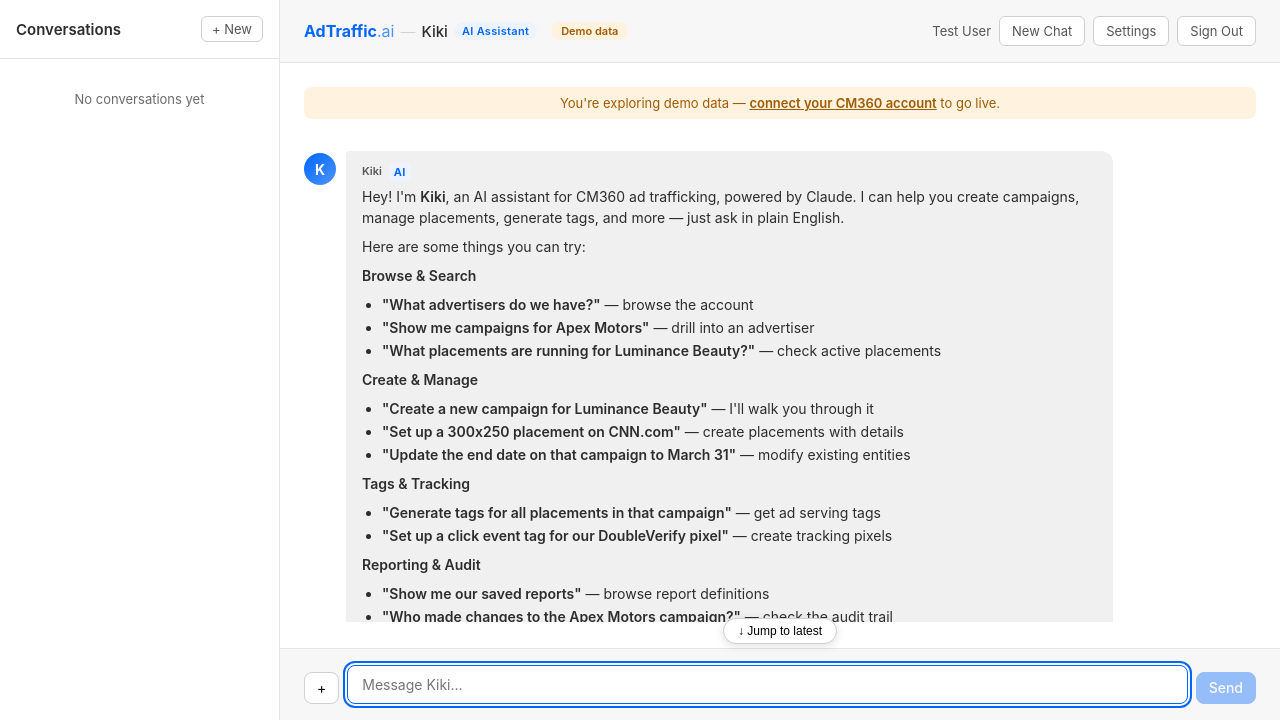
Test: Chat SSE streaming › handles malformed JSON in SSE data line gracefully
Type "Hello" into the text box with placeholder "Message Kiki...".
click(768, 684); type("Hello")  # box [347,665,1188,704]
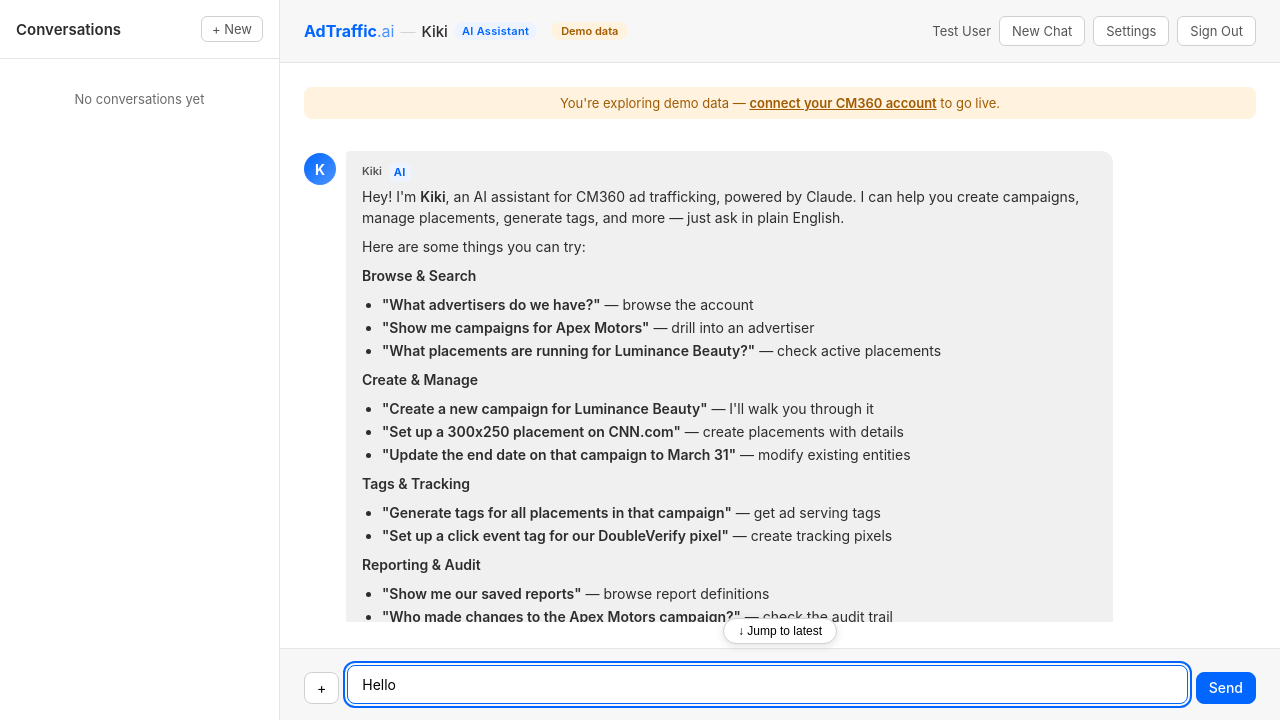
Click the button "Send".
click(1226, 688)  # box [1196,672,1256,704]
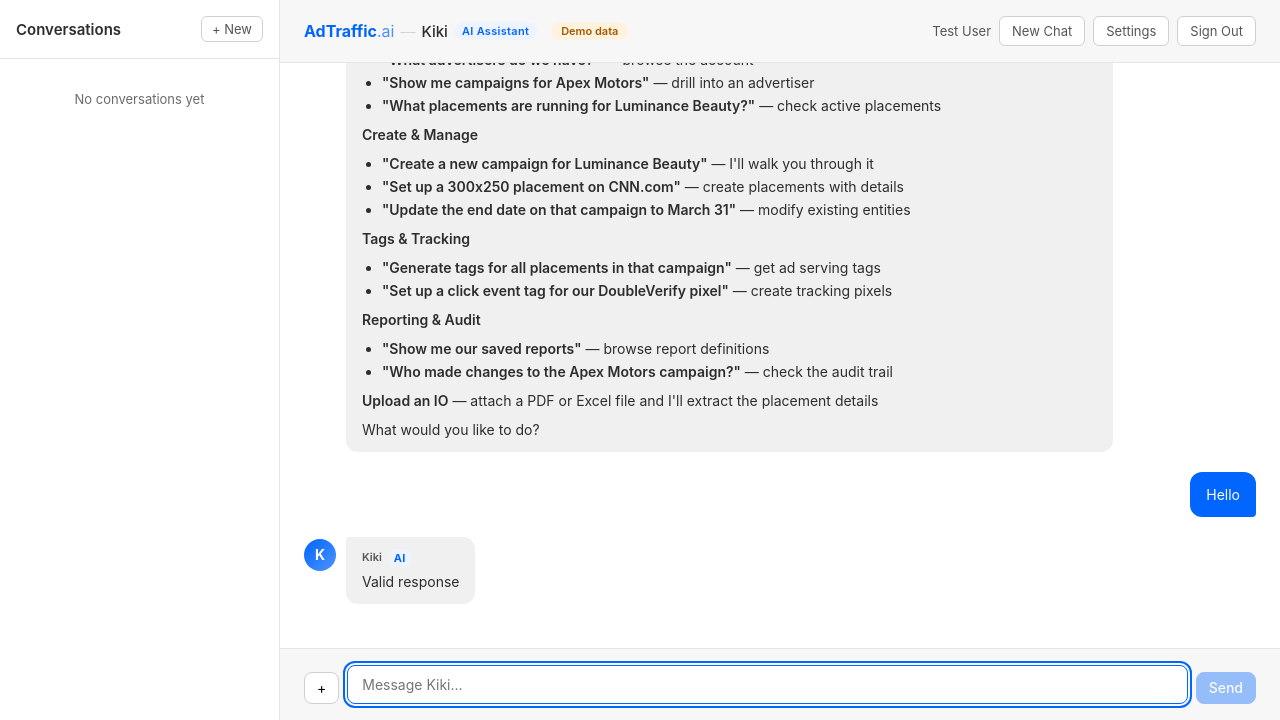
Expected: the text "Valid response" is shown, [362,571,460,592]
